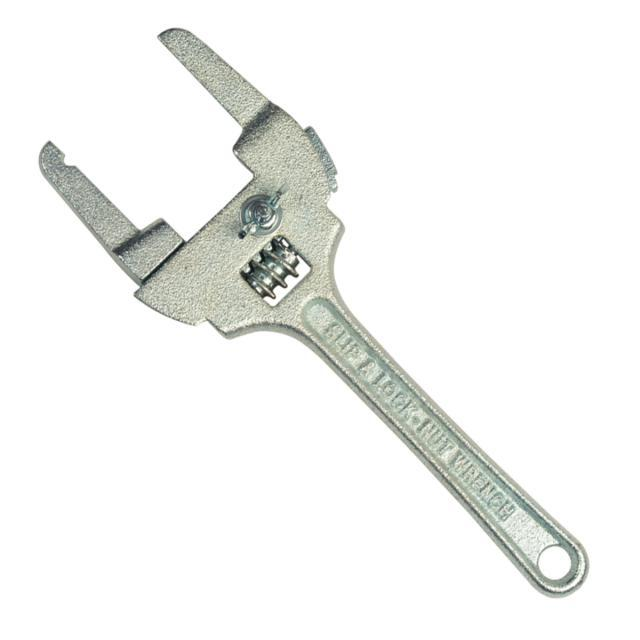wrench: (36, 26, 592, 602)
